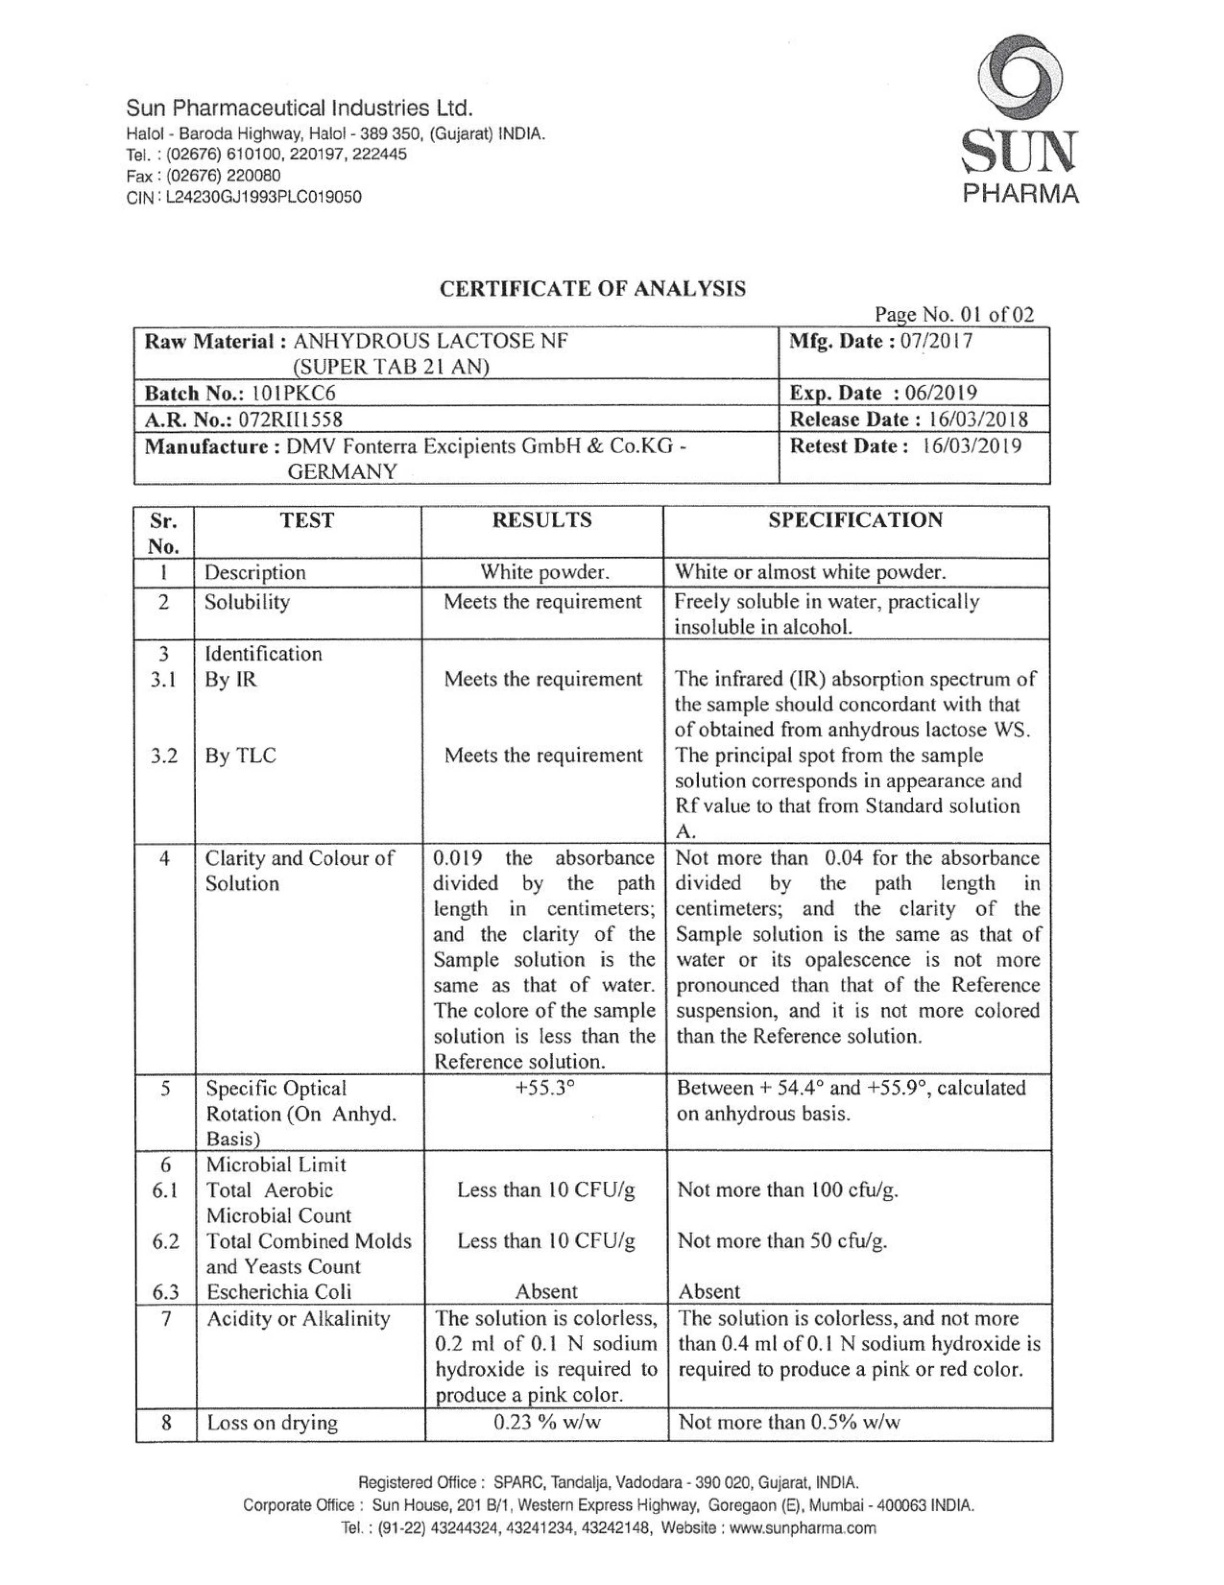full_lined: (131, 504, 1054, 1444), (132, 325, 1052, 486)
